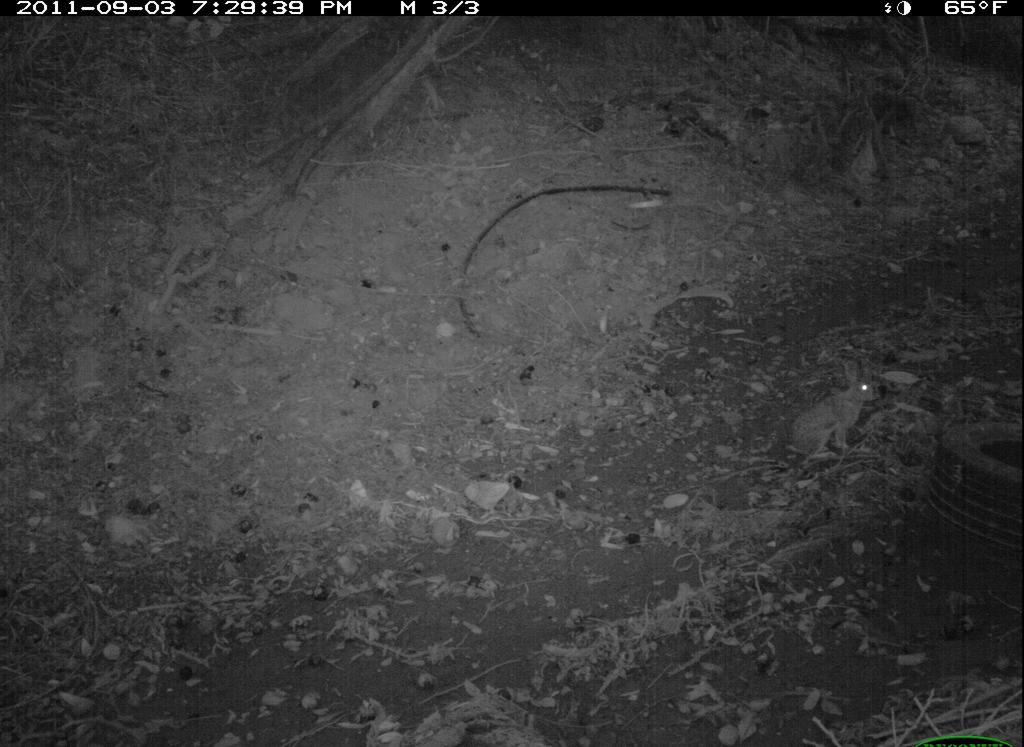rabbit: (786, 358, 894, 461)
